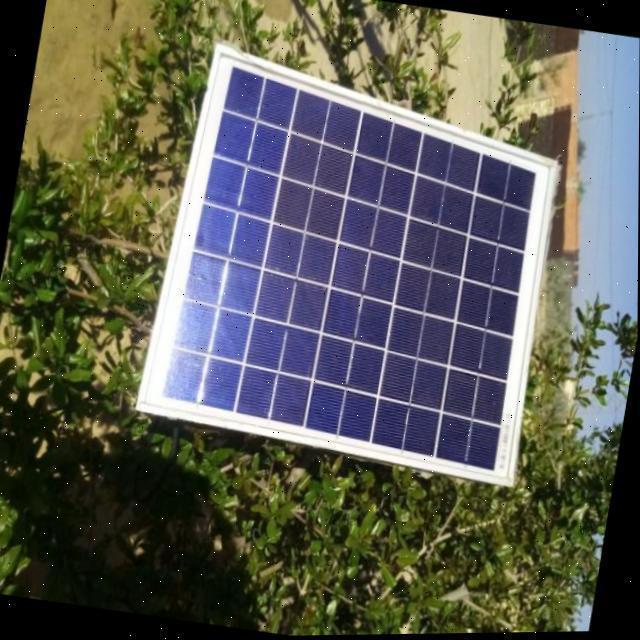Normal Solar Panel: (137, 41, 574, 492)
